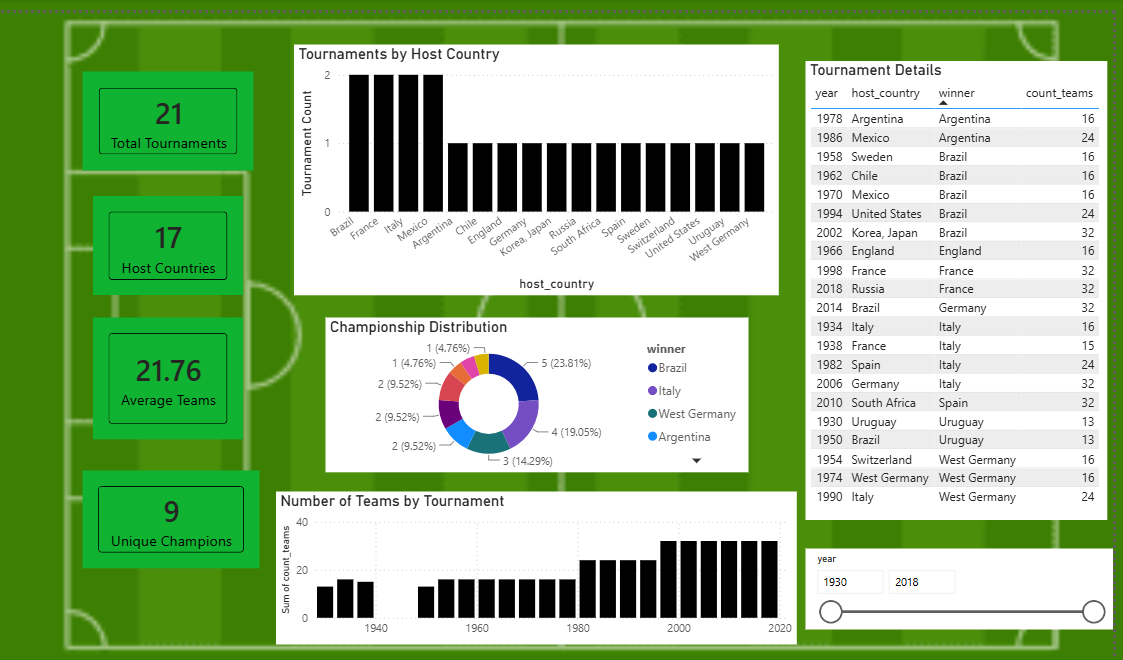

What the dashboard file says about the page in this screenshot:
{"tool":"powerbi","page":{"name":"Tournament Analysis","canvas":[1280,720],"ordinal":3},"visuals":[{"type":"cardVisual","fields":{"Data":["DAX_Measures.Total Tournaments"]},"box":[135,65,190,110],"z":0},{"type":"cardVisual","fields":{"Data":["DAX_Measures.Host Countries"]},"box":[146.7,203.3,166.7,110],"z":1000},{"type":"cardVisual","fields":{"Data":["Unique Champions.Unique Champions"]},"box":[135,508.3,196.7,108.3],"z":2000},{"type":"cardVisual","fields":{"Data":["Unique Champions.Average Teams"]},"box":[146.7,338.3,166.7,135],"z":3000},{"type":"clusteredColumnChart","title":"Number of Teams by Tournament","fields":{"Category":["tournaments.year"],"Y":["Sum(tournaments.count_teams)"]},"box":[350,531.7,578.3,170],"z":4000},{"type":"donutChart","title":"Championship Distribution","fields":{"Category":["tournaments.winner"],"Y":["CountNonNull(tournaments.winner)"]},"box":[405,338.3,470,171.7],"z":5000},{"type":"clusteredColumnChart","title":"Tournaments by Host Country","fields":{"Category":["tournaments.host_country"],"Y":["Unique Champions.Tournament Count"]},"box":[370,35,538.3,278.3],"z":6000},{"type":"tableEx","title":"Tournament Details","fields":{"Values":["tournaments.year","tournaments.host_country","tournaments.winner","tournaments.count_teams"]},"box":[938.3,53.3,335,510],"z":7000},{"type":"slicer","fields":{"Values":["tournaments.year"]},"box":[938.3,595,341.7,90],"z":8000}]}

Visuals, with their boxes on the page's 1280x720 design canvas (x1, y1, x2, y2). These are canvas units, not pixel positions in the 1123x660 screenshot, which may show the page scaled, cropped or inside an application window:
cardVisual - DAX_Measures.Total Tournaments: bbox(135, 65, 325, 175)
cardVisual - DAX_Measures.Host Countries: bbox(147, 203, 313, 313)
cardVisual - Unique Champions.Unique Champions: bbox(135, 508, 332, 617)
cardVisual - Unique Champions.Average Teams: bbox(147, 338, 313, 473)
"Number of Teams by Tournament" clusteredColumnChart: bbox(350, 532, 928, 702)
"Championship Distribution" donutChart: bbox(405, 338, 875, 510)
"Tournaments by Host Country" clusteredColumnChart: bbox(370, 35, 908, 313)
"Tournament Details" tableEx: bbox(938, 53, 1273, 563)
slicer - tournaments.year: bbox(938, 595, 1280, 685)
